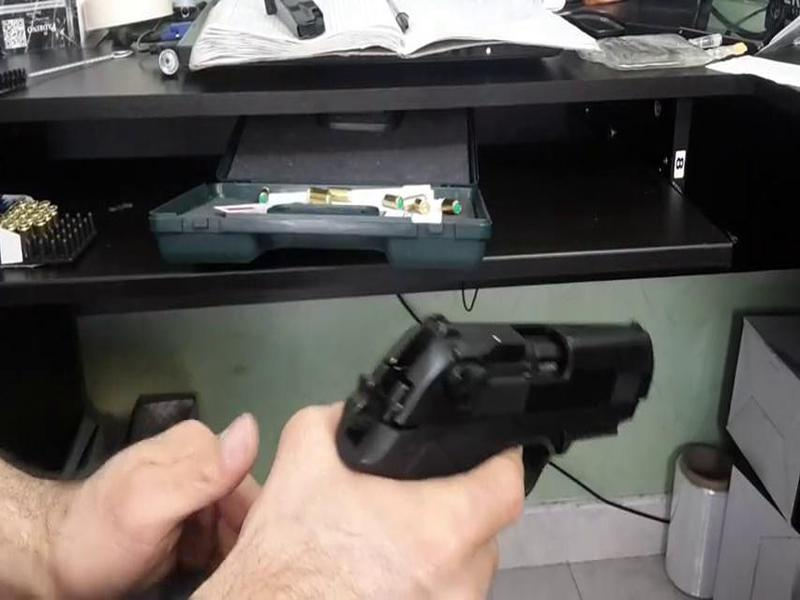Pistola: (296, 288, 678, 513)
